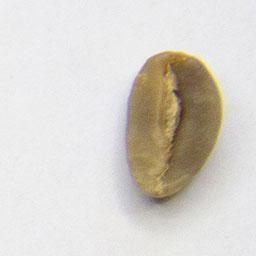longberry: (122, 46, 227, 203)
